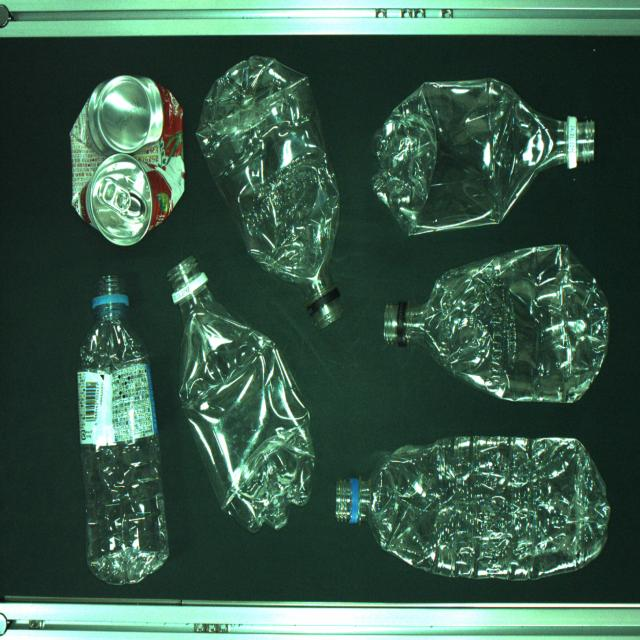Can: (67, 64, 190, 249)
Transparent Plastic Bottle: (376, 71, 605, 249), (331, 435, 610, 576), (210, 50, 353, 321), (168, 262, 310, 521), (384, 249, 606, 401), (76, 270, 172, 576)
